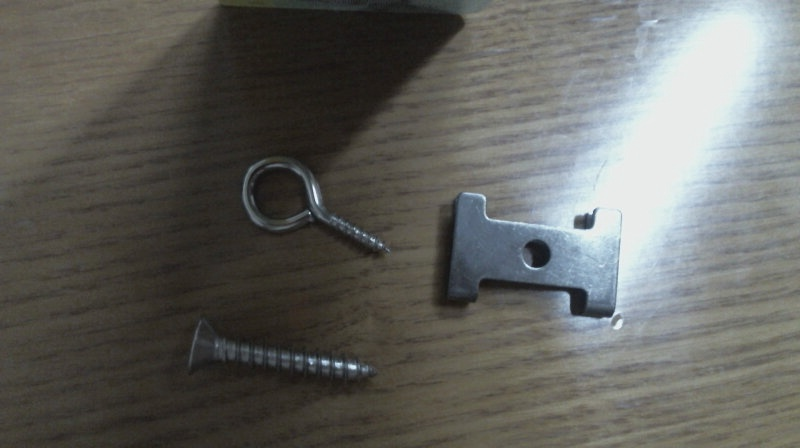O001: (237, 154, 392, 259)
O002: (442, 189, 623, 319)
S001: (181, 313, 382, 384)
